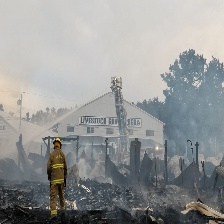smoke: (145, 90, 224, 169), (6, 135, 120, 177)
